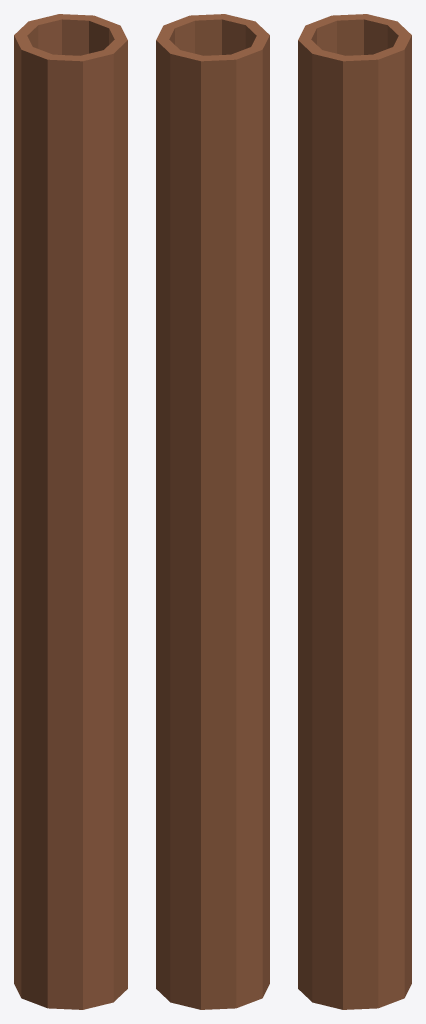
File: Pipe.fbx
The picture shows the model from 3 angles, left to right: view 1: azimuth 30°, elevation 25°; view 2: azimuth 150°, elevation 25°; view 3: azimuth 330°, elevation 25°; orthographic projection.
Parts seen in each view (by area): view 1: pPipe1; view 2: pPipe1; view 3: pPipe1.
Boxes of the visible parts, x1,y1,x2,y2 form: pPipe1: (14,14,127,1009); pPipe1: (156,14,269,1009); pPipe1: (298,14,411,1009).
Size of the model in its own units: 0.7662 by 7.01 by 0.7287.
